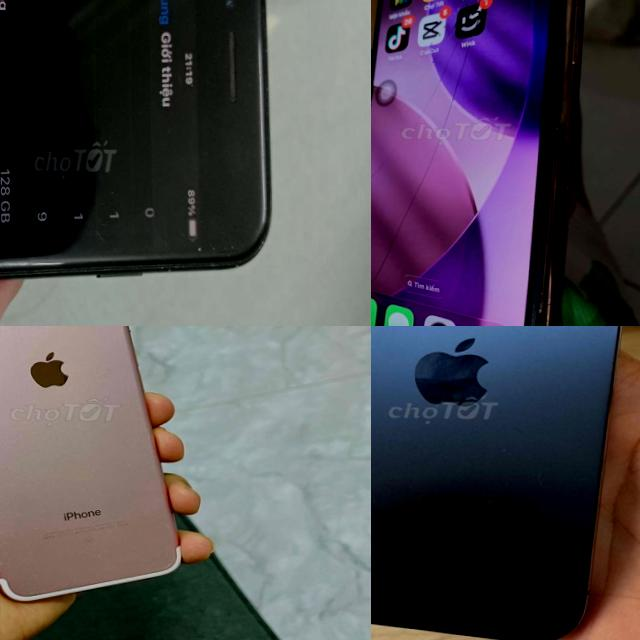gen_11: (371, 0, 600, 326)
gen_15: (371, 326, 640, 640)
gen_7_8: (0, 0, 279, 298), (0, 326, 202, 607)
